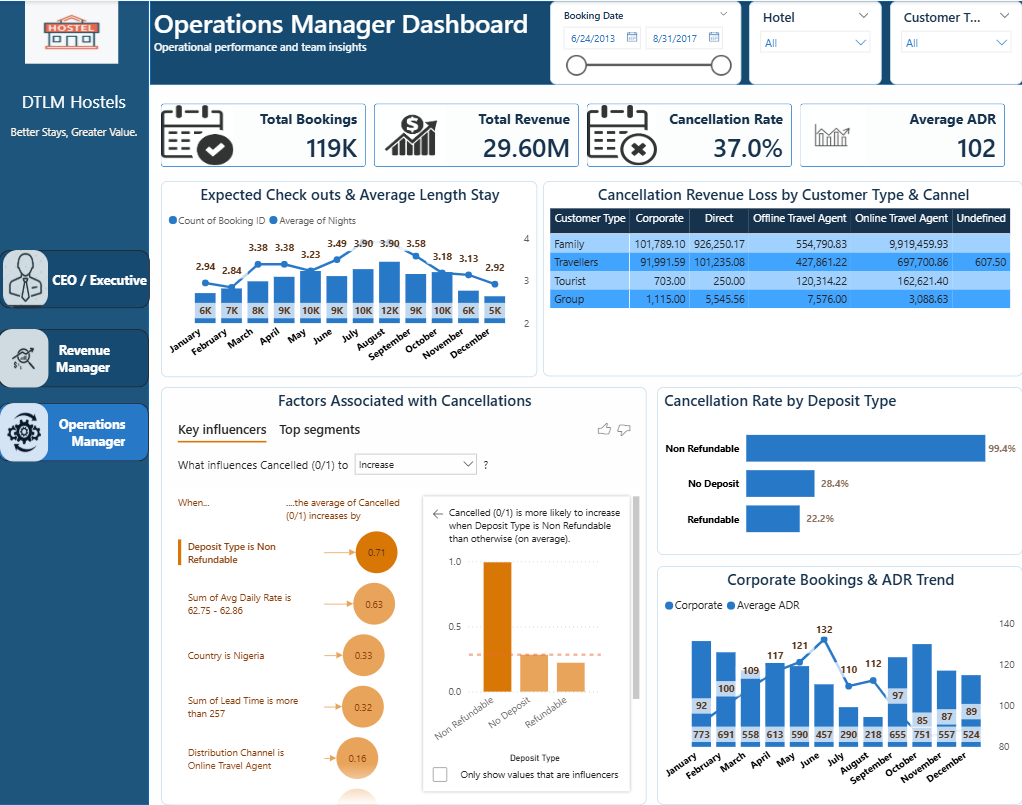

The page's visual inventory and layout, read from the dashboard file:
{"tool":"powerbi","page":{"name":"Operation","canvas":[1280,1000],"ordinal":2},"visuals":[{"type":"shape","box":[194,0,1085.8,104.5],"z":0},{"type":"shape","box":[5,0,187.8,1000],"z":1000},{"type":"cardVisual","fields":{"Data":["KPI Measures.Total Bookings","KPI Measures.Total Revenue","KPI Measures.Cancellation Rate","KPI Measures.Average ADR"]},"box":[196.5,119.4,1074.6,95.8],"z":2000},{"type":"keyDriversVisual","title":"Factors Associated with Cancellations","fields":{"Target":["Data.Cancelled (0/1)"],"ExplainBy":["Sum(Data.Lead Time)","Sum(Data.Nights)","Sum(Data.Guests)","Data.Distribution Channel","Data.Customer Type","Data.Deposit Type","Sum(Data.Avg Daily Rate)","Data.Hotel","Data.Country"]},"box":[207.7,480.1,604.5,519.9],"z":3000},{"type":"pivotTable","title":"Cancellation Revenue  Loss by Customer Type & Cannel ","fields":{"Rows":["Data.Customer Type"],"Values":["KPI Measures.Total revenue loss"],"Columns":["Data.Distribution Channel"]},"box":[682.8,223.9,597,242.5],"z":4000},{"type":"clusteredBarChart","title":"Cancellation Rate by Deposit Type","fields":{"Category":["Data.Deposit Type"],"Y":["KPI Measures.Cancellation Rate"]},"box":[824.6,480.1,455.2,209],"z":6000},{"type":"lineClusteredColumnComboChart","title":"Corporate Bookings & ADR Trend","fields":{"Y":["KPI Measures.Corporate"],"Category":["Data.Booking Date.Variation.Date Hierarchy.Month"],"Y2":["KPI Measures.Average ADR"]},"box":[824.6,702.7,455.2,297.3],"z":7000},{"type":"lineClusteredColumnComboChart","title":"Expected Check outs & Average Length Stay","fields":{"Category":["Data.Estimated Check out date.Variation.Date Hierarchy.Month"],"Y2":["Avg(Data.Nights)"],"Y":["Count(Data.Booking ID)"]},"box":[207.5,223.8,467.5,243.8],"z":8000},{"type":"textbox","box":[194,0,481.3,104.5],"z":10000},{"type":"slicer","fields":{"Values":["Data.Booking Date"]},"box":[691.5,0,237.6,104.5],"z":11000},{"type":"slicer","fields":{"Values":["Data.Customer Type"]},"box":[1114.4,0,165.4,104.5],"z":12000},{"type":"slicer","fields":{"Values":["Data.Hotel"]},"box":[939.1,0,165.4,104.5],"z":13000},{"type":"image","box":[38.6,0,115.7,78.4],"z":14000},{"type":"textbox","box":[11.2,105,176.2,85],"z":15000},{"type":"shape","box":[6.2,310,187.5,72.5],"z":16000},{"type":"shape","box":[5,407.5,187.5,72.5],"z":17000},{"type":"shape","box":[5,500,187.5,72.5],"z":18000},{"type":"actionButton","box":[67.2,309.7,126.9,72.1],"z":19000},{"type":"actionButton","box":[11.2,407.5,142.5,72.5],"z":20000},{"type":"actionButton","box":[11.2,500,156.2,72.5],"z":21000},{"type":"image","box":[11.2,309.7,56,73.4],"z":22000},{"type":"image","box":[7.5,500,60,72.5],"z":23000},{"type":"image","box":[5,407.5,62.5,72.5],"z":24000},{"type":"image","box":[1001.2,129.4,83.3,74.6],"z":25000},{"type":"image","box":[737.6,129.4,87.1,74.6],"z":26000},{"type":"image","box":[207.7,129.4,89.6,74.6],"z":27000},{"type":"image","box":[475.1,129.4,87.1,74.6],"z":28000}]}

Visuals, with their boxes on the page's 1280x1000 design canvas (x1, y1, x2, y2). These are canvas units, not pixel positions in the 1022x805 screenshot, which may show the page scaled, cropped or inside an application window:
shape: bbox(194, 0, 1280, 104)
shape: bbox(5, 0, 193, 1000)
cardVisual - KPI Measures.Total Bookings x KPI Measures.Total Revenue: bbox(196, 119, 1271, 215)
"Factors Associated with Cancellations" keyDriversVisual: bbox(208, 480, 812, 1000)
"Cancellation Revenue  Loss by Customer Type & Cannel " pivotTable: bbox(683, 224, 1280, 466)
"Cancellation Rate by Deposit Type" clusteredBarChart: bbox(825, 480, 1280, 689)
"Corporate Bookings & ADR Trend" lineClusteredColumnComboChart: bbox(825, 703, 1280, 1000)
"Expected Check outs & Average Length Stay" lineClusteredColumnComboChart: bbox(208, 224, 675, 468)
textbox: bbox(194, 0, 675, 104)
slicer - Data.Booking Date: bbox(692, 0, 929, 104)
slicer - Data.Customer Type: bbox(1114, 0, 1280, 104)
slicer - Data.Hotel: bbox(939, 0, 1104, 104)
image: bbox(39, 0, 154, 78)
textbox: bbox(11, 105, 187, 190)
shape: bbox(6, 310, 194, 382)
shape: bbox(5, 408, 192, 480)
shape: bbox(5, 500, 192, 572)
actionButton: bbox(67, 310, 194, 382)
actionButton: bbox(11, 408, 154, 480)
actionButton: bbox(11, 500, 167, 572)
image: bbox(11, 310, 67, 383)
image: bbox(8, 500, 68, 572)
image: bbox(5, 408, 68, 480)
image: bbox(1001, 129, 1084, 204)
image: bbox(738, 129, 825, 204)
image: bbox(208, 129, 297, 204)
image: bbox(475, 129, 562, 204)
